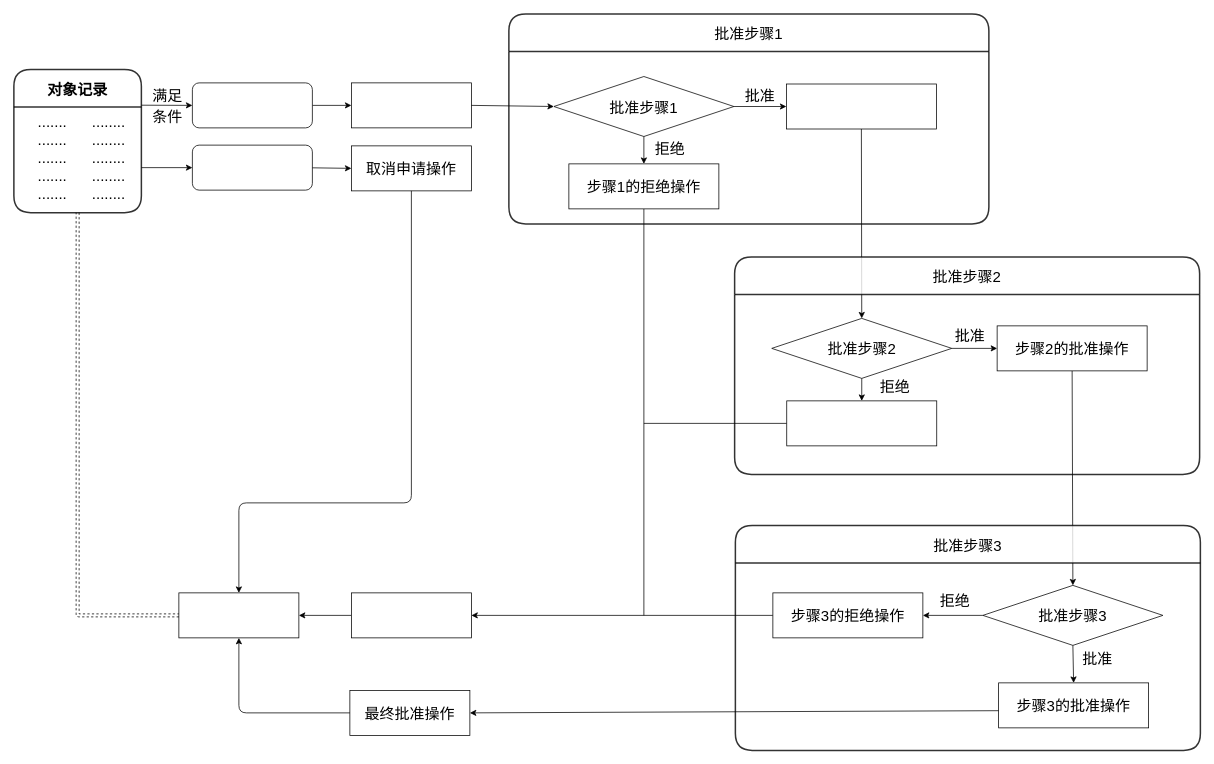
Image size: 1214x764. Some labels were removed from this diagram. Each missing label, with the centre of its shape:
"初始提交操作" belongs at point 411,105.
"取消申请" belongs at point 252,167.
"提请批准" belongs at point 252,105.
"最终拒绝操作" belongs at point 411,615.
"步骤1的批准操作" belongs at point 861,106.
"步骤2的拒绝操作" belongs at point 861,423.
"结束" belongs at point 238,615.
